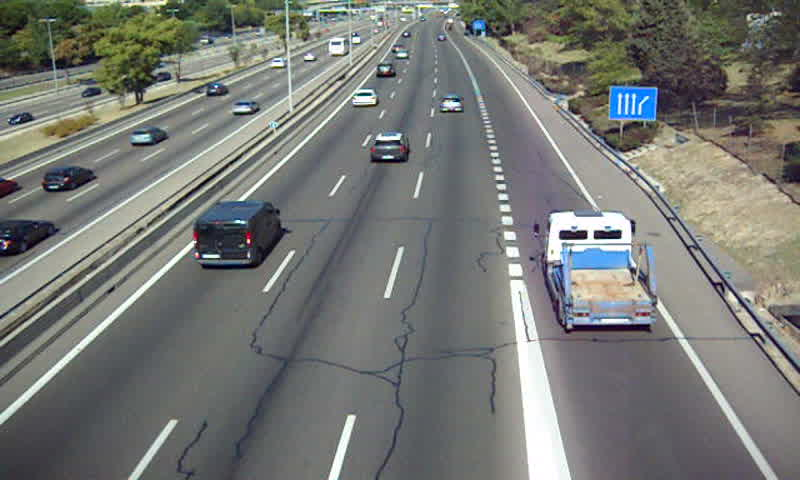car: (370, 132, 408, 164), (438, 93, 464, 114), (351, 88, 378, 106), (374, 62, 394, 78), (394, 49, 412, 60)
small-truck: (541, 211, 659, 328)
van: (194, 202, 280, 270)
